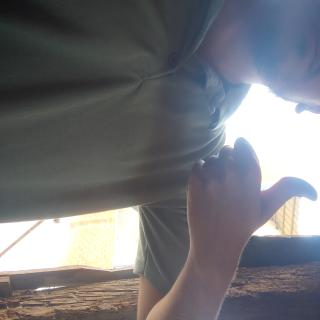ALIF: (102, 2, 190, 191)
